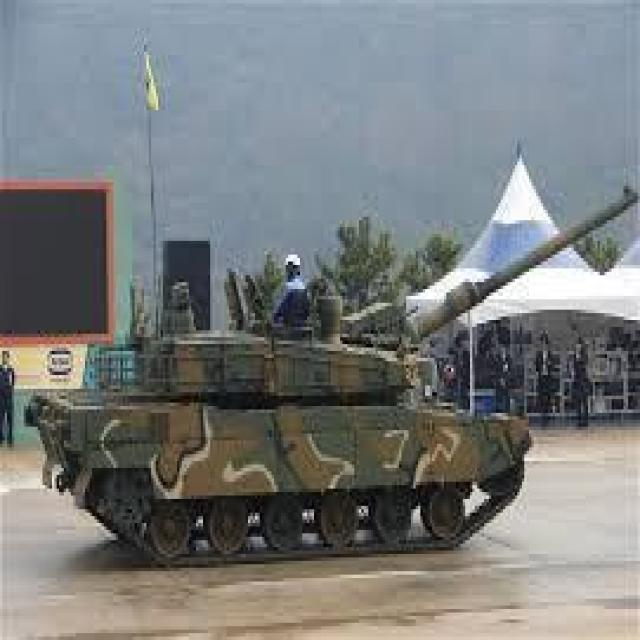Tanks: (27, 285, 533, 561)
